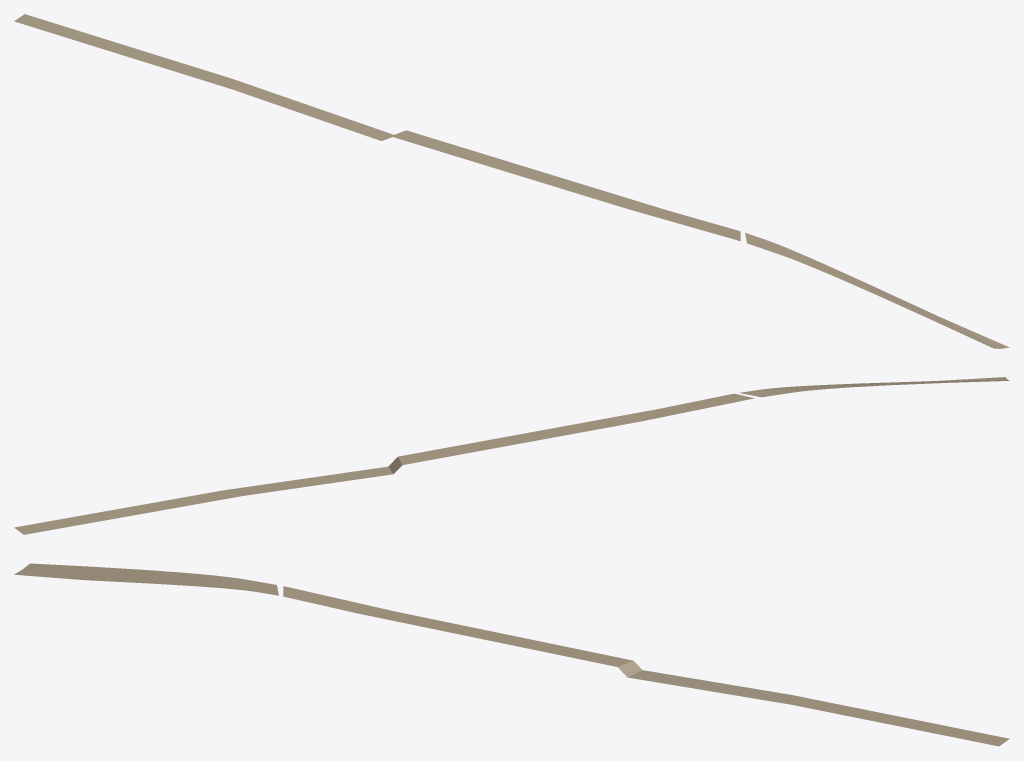
The model's file is farm_6_21_track.glb.
3 renders of one model, top to bottom at view 1: azimuth 90°, elevation 25°; view 2: azimuth 150°, elevation 25°; view 3: azimuth 270°, elevation 25°, orthographic.
Visible parts, largest first — view 1: geometry_0; view 2: geometry_0; view 3: geometry_0.
Boxes of the visible parts, bbox=[...] form: geometry_0: bbox=[14, 14, 1009, 348]; geometry_0: bbox=[14, 377, 1009, 534]; geometry_0: bbox=[14, 563, 1009, 746].
Bounding box in the file's own units: 96.37 × 14.08 × 157.
